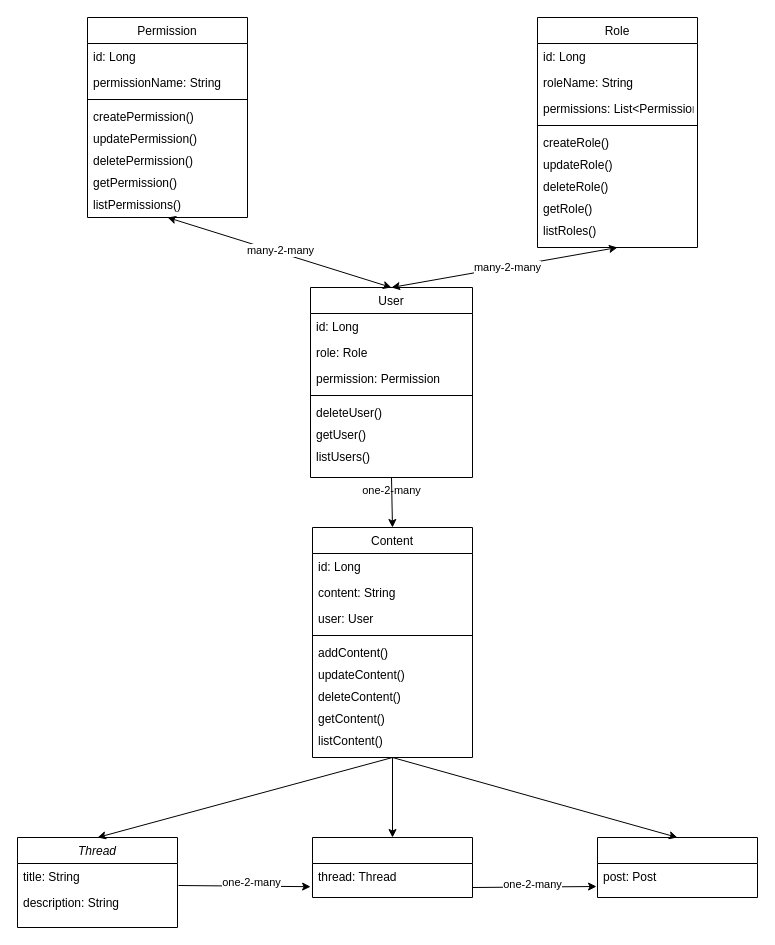
The diagram is 775 pixels wide and 945 high, and some of its shapes have lost their labels. The box of each missing label's shape, as (x1, y1, x2, y2) in pixels:
Comment: (596, 836, 758, 898)
Post: (312, 836, 472, 898)
